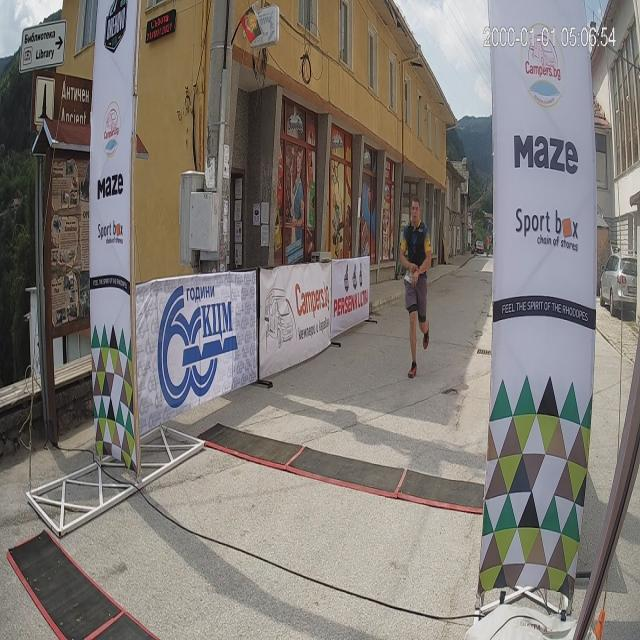runner: (383, 187, 443, 389)
